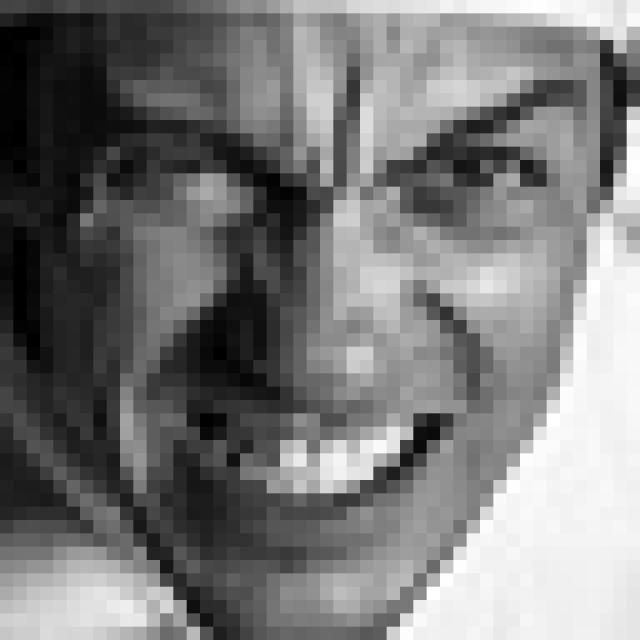angry: (75, 54, 592, 566)
